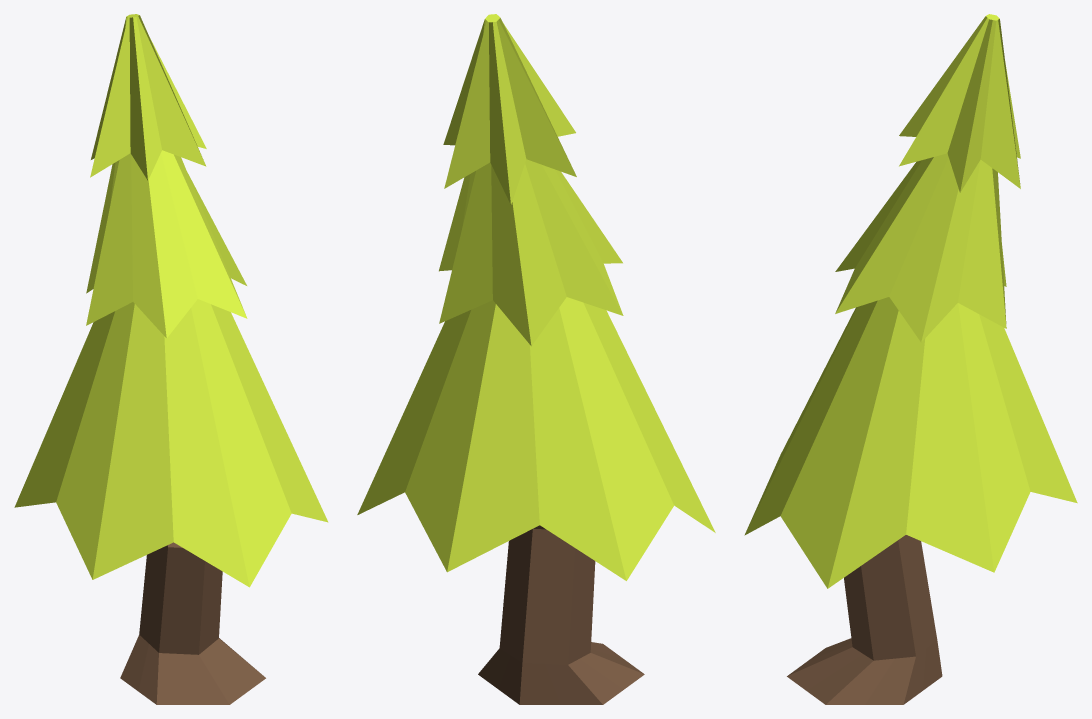
Rendered from Árvore 3.fbx.
3 views of the same model, side by side, from view 1: azimuth 30°, elevation 25°; view 2: azimuth 150°, elevation 25°; view 3: azimuth 270°, elevation 25° (orthographic). The views are drawn at different scales.
Visible parts, largest first — view 1: Árvore3; view 2: Árvore3; view 3: Árvore3.
Boxes of the visible parts, x1,y1,x2,y2 form: Árvore3: (14, 14, 328, 704); Árvore3: (357, 14, 715, 704); Árvore3: (744, 14, 1077, 704).
Size of the model in its own units: 2282 by 5725 by 2620.
